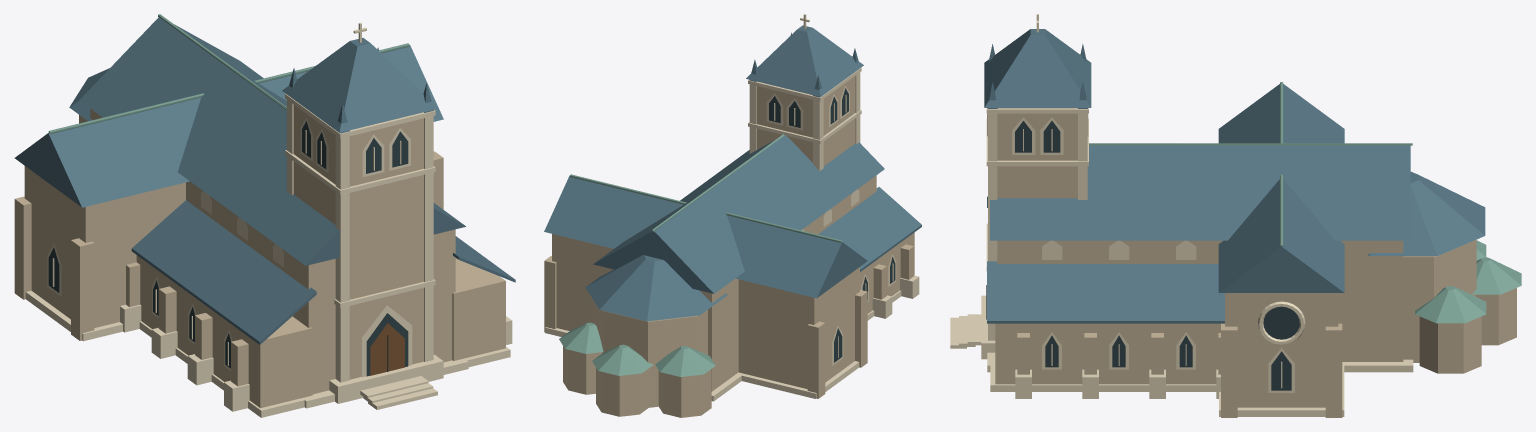
The model's file is church-lod2.glb.
3 views of the same model, side by side, from view 1: azimuth 30°, elevation 25°; view 2: azimuth 150°, elevation 25°; view 3: azimuth 270°, elevation 25° (orthographic). The views are drawn at different scales.
Parts seen in each view (by area): view 1: Church_LOD2; view 2: Church_LOD2; view 3: Church_LOD2.
Part boxes in pixels (x1,y1,x2,y2): Church_LOD2: (14,14,515,417); Church_LOD2: (544,14,921,417); Church_LOD2: (950,14,1521,417).
Bounding box in the file's own units: 19.21 × 17.43 × 28.1.
